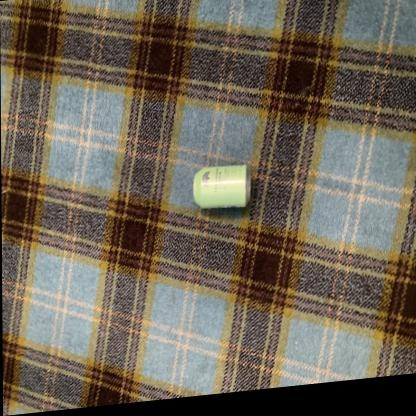trash: (193, 165, 250, 208)
